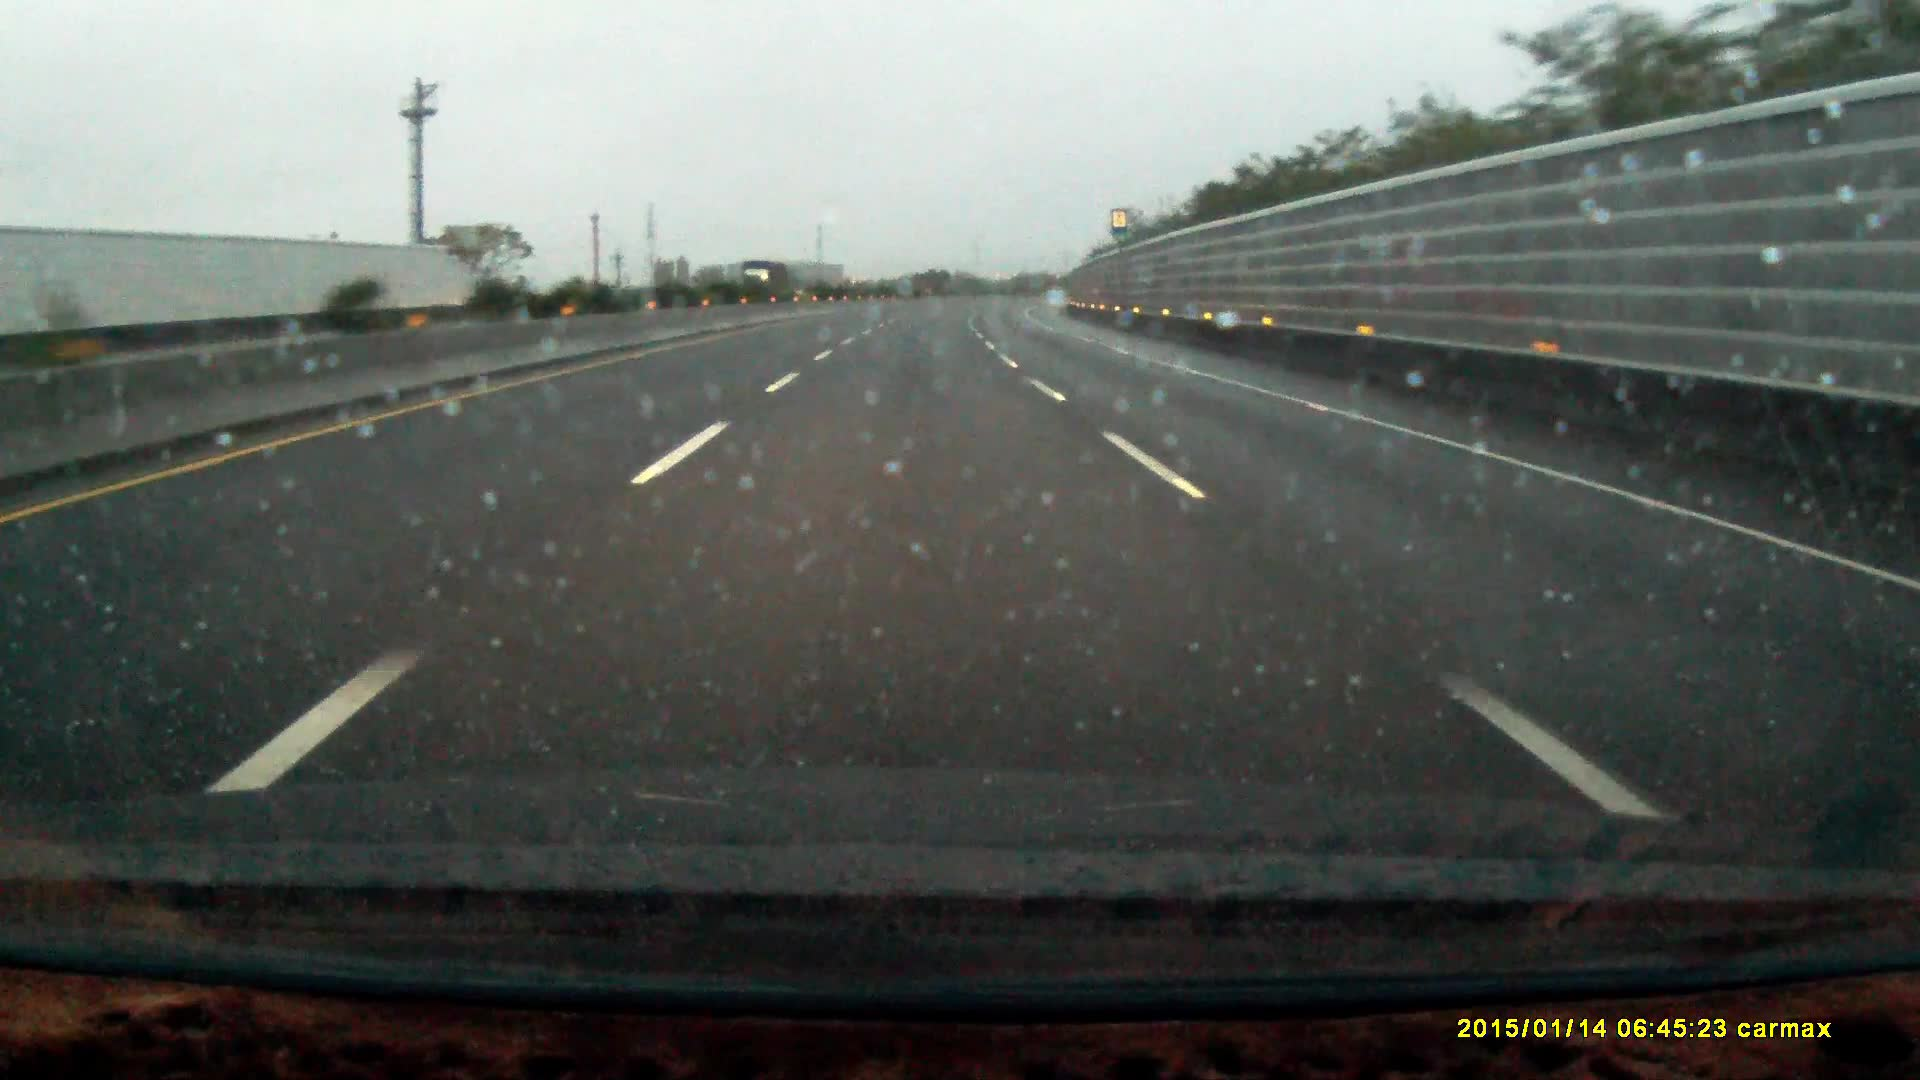vehicle: (740, 265, 790, 301)
